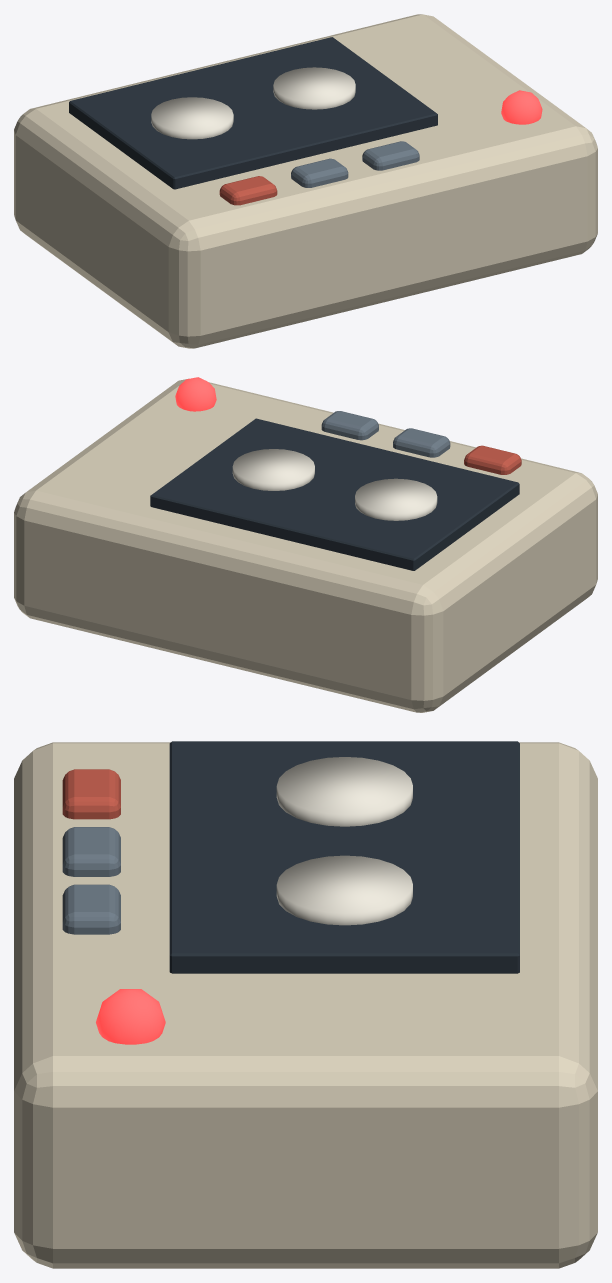
Rendered from answering_machine.glb.
3 views of the same model, one above another, from view 1: azimuth 30°, elevation 25°; view 2: azimuth 150°, elevation 25°; view 3: azimuth 270°, elevation 25° (orthographic). The views are drawn at different scales.
Parts seen in each view (by area): view 1: body, deck, reel.001, reel, button, button.002, button.001, led; view 2: body, deck, reel, reel.001, button.002, button.001, button, led; view 3: body, deck, reel.001, reel, led, button, button.002, button.001.
Boxes of the visible parts, <box> form: body: <box>14,14,597,348</box>; deck: <box>69,37,437,189</box>; reel.001: <box>273,67,355,109</box>; reel: <box>151,97,233,139</box>; button: <box>219,176,277,205</box>; button.002: <box>362,141,419,170</box>; button.001: <box>291,158,348,187</box>; led: <box>501,90,542,124</box>; body: <box>14,378,597,712</box>; deck: <box>150,418,519,570</box>; reel: <box>355,478,437,520</box>; reel.001: <box>232,449,314,490</box>; button.002: <box>321,411,378,440</box>; button.001: <box>393,428,450,457</box>; button: <box>464,445,521,474</box>; led: <box>175,377,216,411</box>; body: <box>14,742,597,1268</box>; deck: <box>169,741,519,973</box>; reel.001: <box>276,855,412,925</box>; reel: <box>276,757,412,826</box>; led: <box>96,989,165,1044</box>; button: <box>62,769,120,819</box>; button.002: <box>62,884,120,934</box>; button.001: <box>62,827,120,876</box>.
Bounding box in the file's own units: 0.42 × 0.143 × 0.3.
